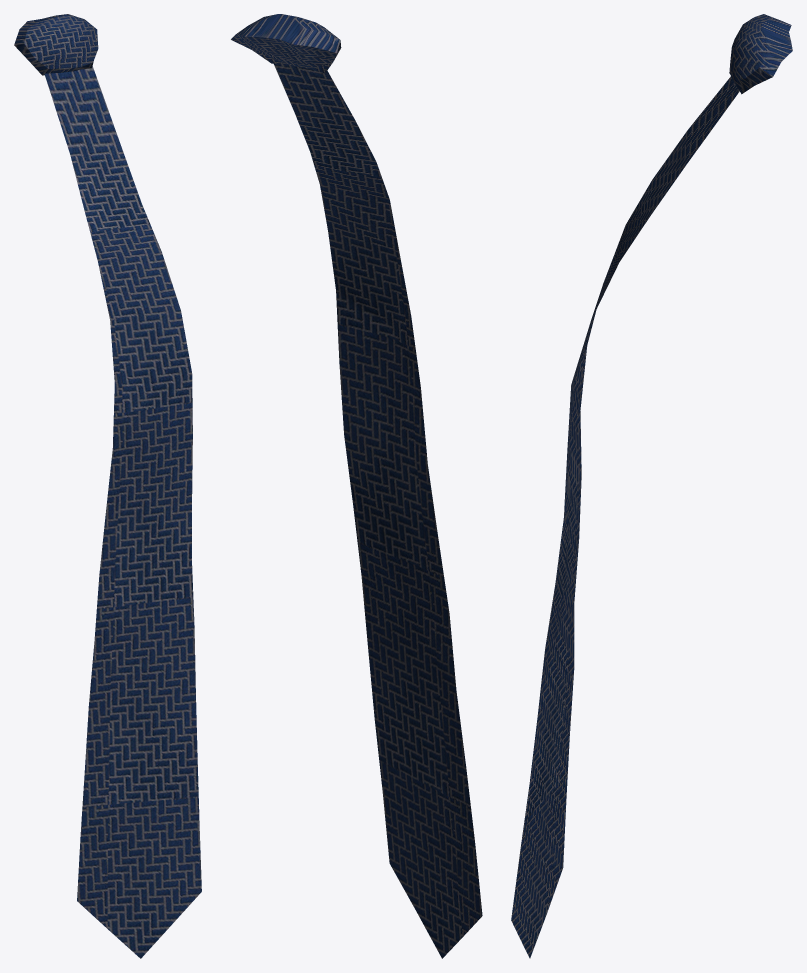
The model's file is Pose-6_Tie-3.fbx.
3 views of the same model, side by side, from view 1: azimuth 30°, elevation 25°; view 2: azimuth 150°, elevation 25°; view 3: azimuth 270°, elevation 25° (orthographic). The views are drawn at different scales.
Parts seen in each view (by area): view 1: Pose-6_Tie-3; view 2: Pose-6_Tie-3; view 3: Pose-6_Tie-3.
Part boxes in pixels (left/top/right/bottom): Pose-6_Tie-3: left=14, top=14, right=201, bottom=958; Pose-6_Tie-3: left=231, top=14, right=482, bottom=958; Pose-6_Tie-3: left=511, top=14, right=792, bottom=958.
Size of the model in its own units: 7.58 by 52.41 by 14.12.
